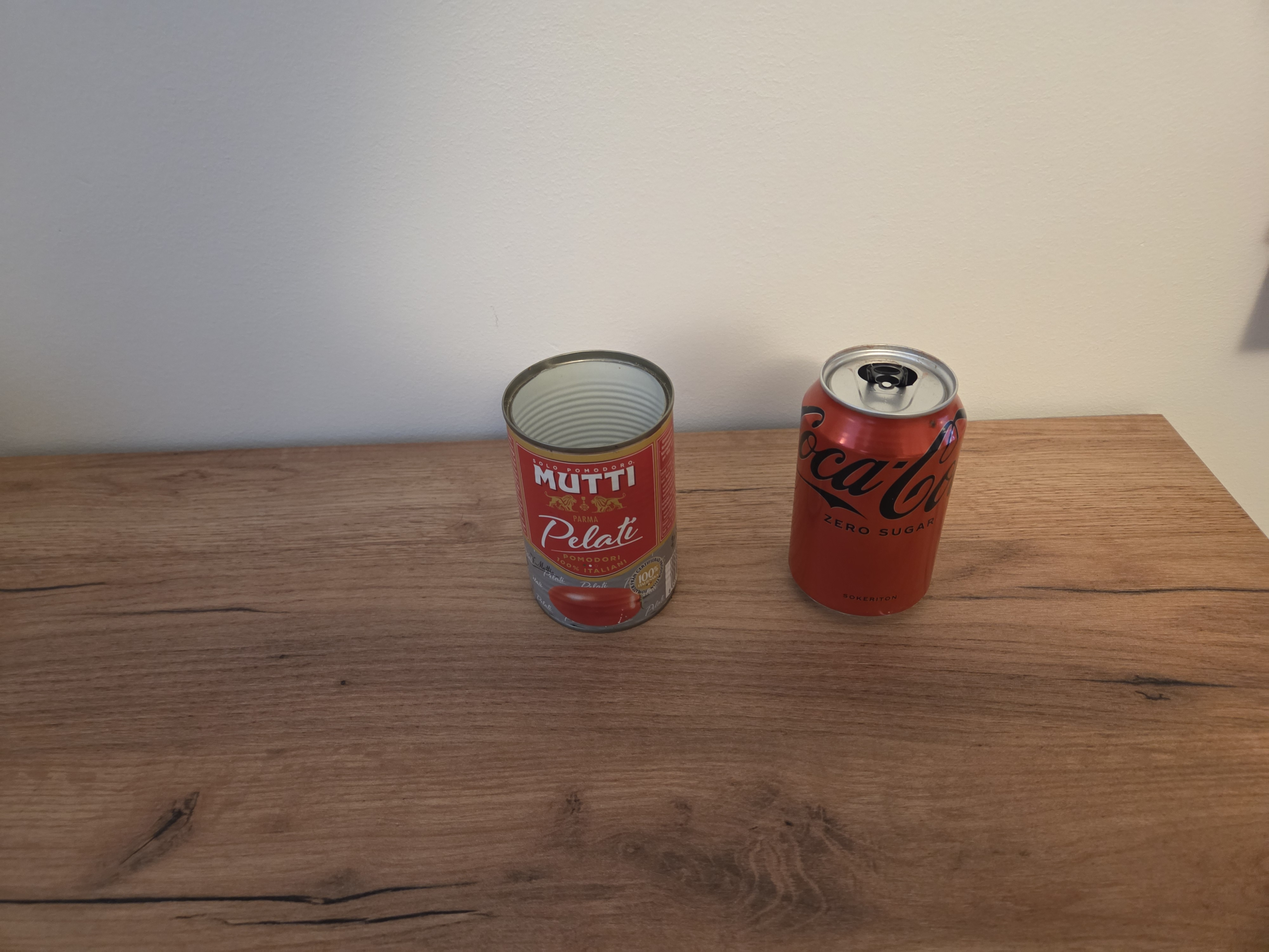Konservburk: (501, 349, 680, 633)
Pantburk: (790, 344, 968, 617)
